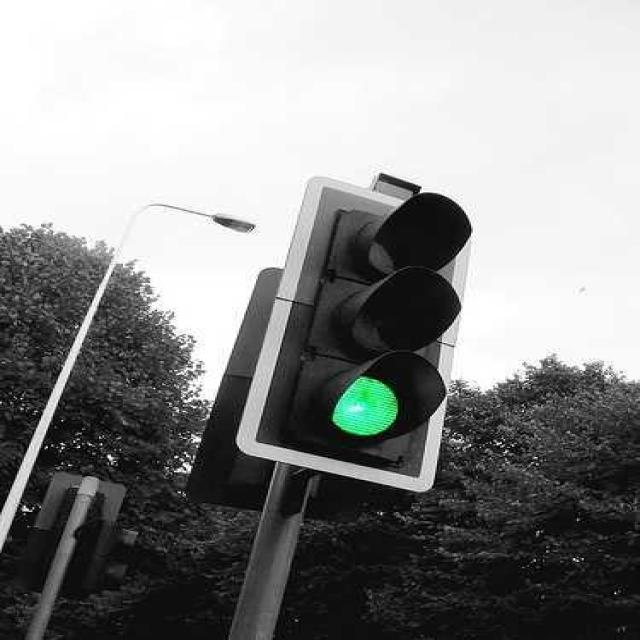Traffic Light -Green-: (235, 172, 488, 496)
